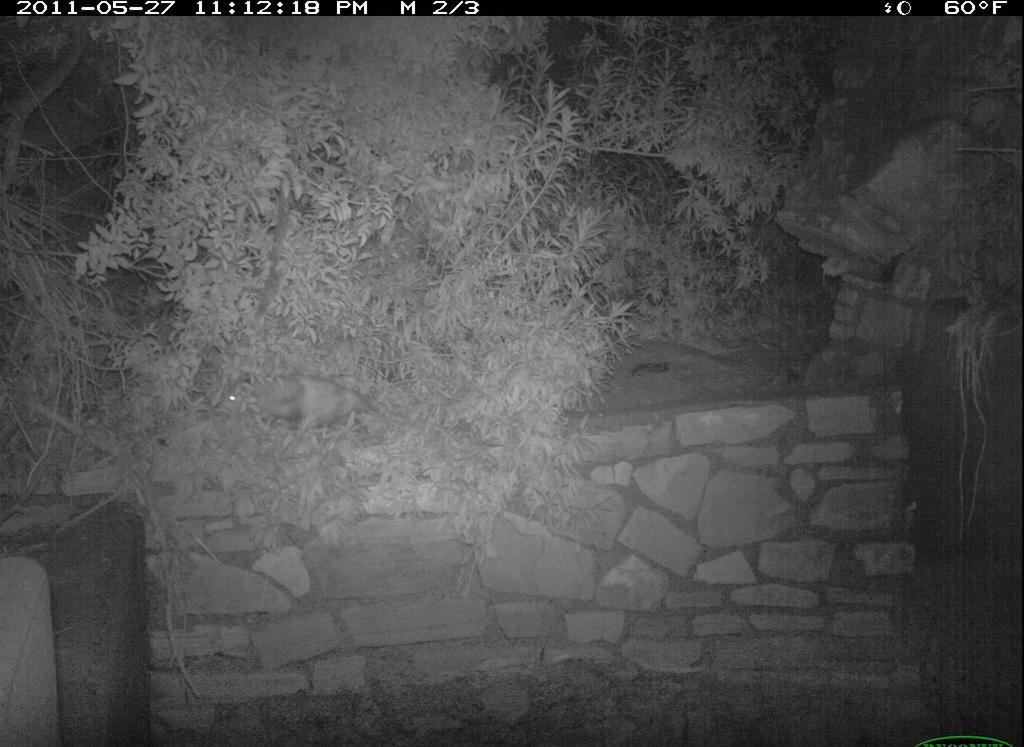opossum: (214, 367, 417, 449)
